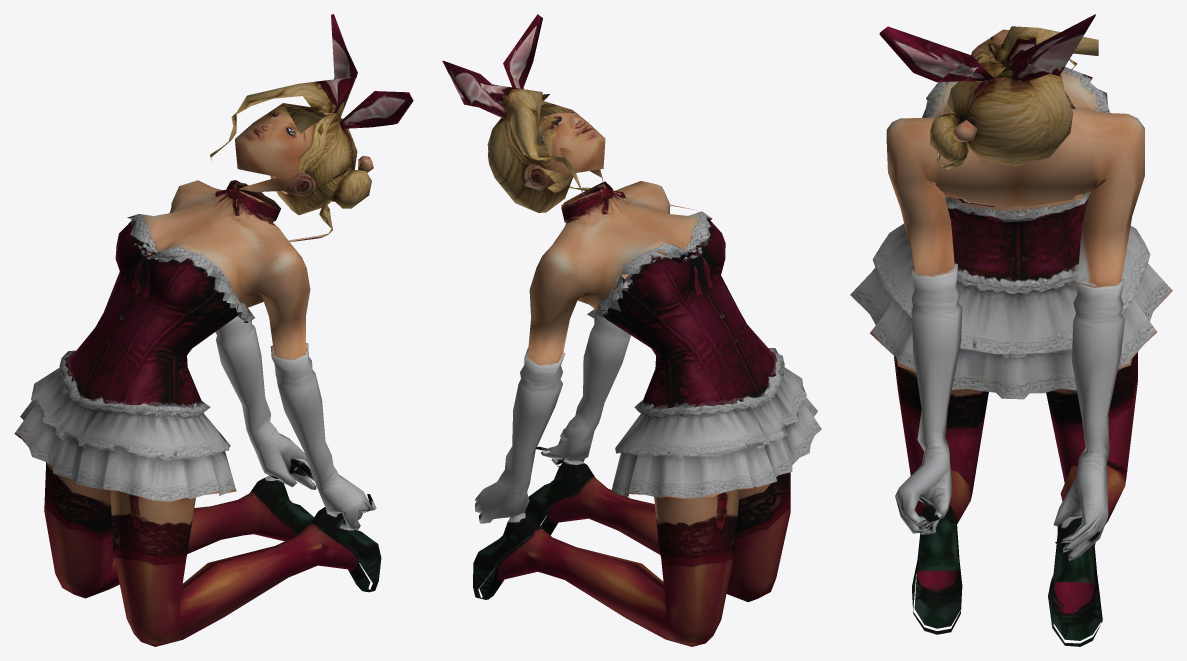
File: 019e5d36-ebf9-72e1-93a1-ba2523426c2f.fbx
3 views of the same model, side by side, from view 1: azimuth 30°, elevation 25°; view 2: azimuth 150°, elevation 25°; view 3: azimuth 270°, elevation 25° (orthographic). The views are drawn at different scales.
Visible parts, largest first — view 1: tripo_node_a73f4528-edb2-4b25-8aaf-28fd2c52c9ad; view 2: tripo_node_a73f4528-edb2-4b25-8aaf-28fd2c52c9ad; view 3: tripo_node_a73f4528-edb2-4b25-8aaf-28fd2c52c9ad.
Part boxes in pixels (bbox=[...]): tripo_node_a73f4528-edb2-4b25-8aaf-28fd2c52c9ad: bbox=[14, 14, 413, 646]; tripo_node_a73f4528-edb2-4b25-8aaf-28fd2c52c9ad: bbox=[442, 14, 821, 646]; tripo_node_a73f4528-edb2-4b25-8aaf-28fd2c52c9ad: bbox=[850, 14, 1172, 646].
Size of the model in its own units: 62.43 by 100 by 45.01.
Materials: 1 (1 with a texture image).
